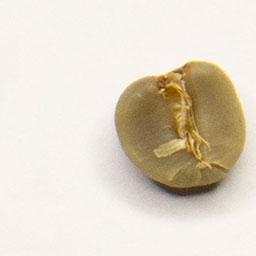premium: (113, 58, 249, 193)
